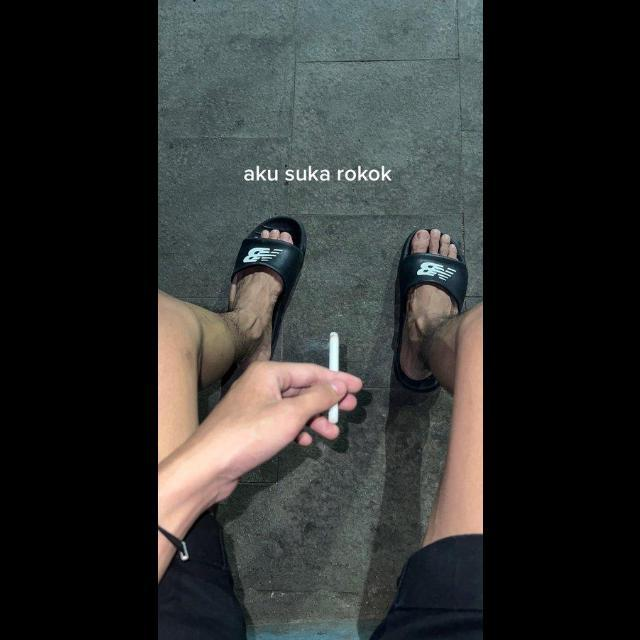rokok: (326, 329, 346, 429)
